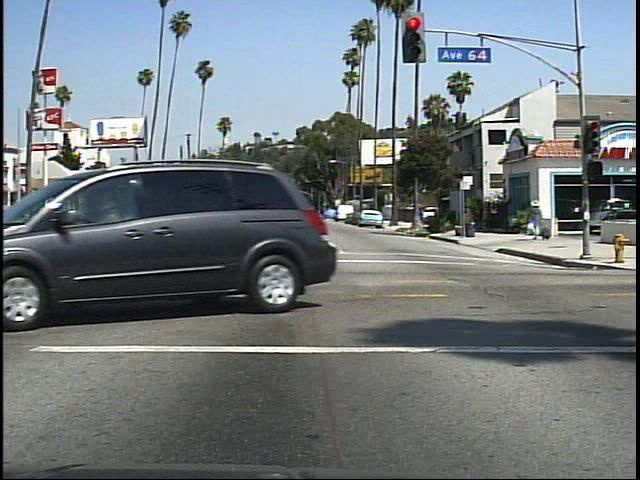person: (527, 195, 549, 248)
